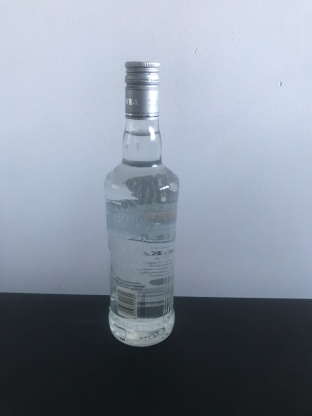nakretka: (123, 58, 162, 122)
